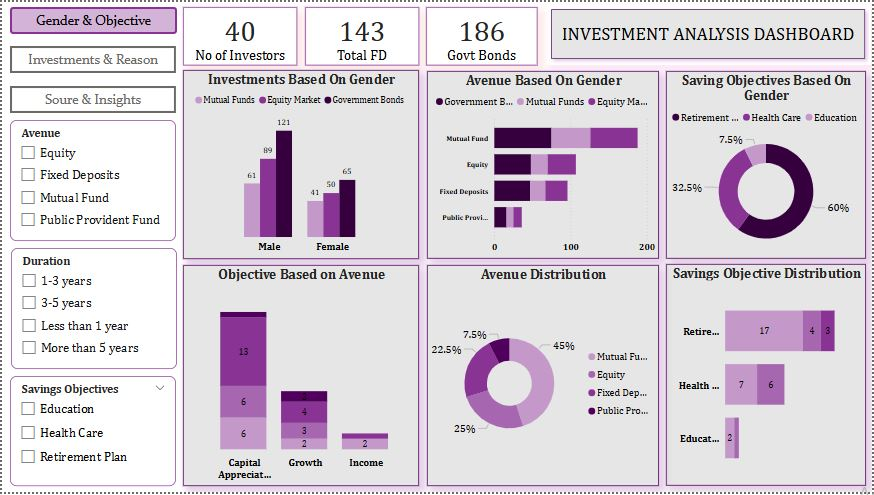

What the dashboard file says about the page in this screenshot:
{"tool":"powerbi","page":{"name":"Dashboard 1","canvas":[1280,720],"ordinal":6},"visuals":[{"type":"shape","box":[798.6,1.4,479.7,91.3],"z":0},{"type":"card","title":"Investors","fields":{"Values":["CountNonNull(Data_set 2.Invest_Monitor)"]},"box":[266.7,7.2,168.1,85.5],"z":1000},{"type":"card","title":"Investors","fields":{"Values":["Sum(Data_set 2.Fixed_Deposits)"]},"box":[444.9,7.2,168.1,85.5],"z":2000},{"type":"slicer","fields":{"Values":["Data_set 2.Avenue"]},"box":[11.8,173.5,244.1,177.9],"z":3000},{"type":"slicer","fields":{"Values":["Data_set 2.Duration"]},"box":[13.2,361.8,244.1,177.9],"z":4000},{"type":"card","title":"Investors","fields":{"Values":["Sum(Data_set 2.Government_Bonds)"]},"box":[623.2,7.2,163.8,85.5],"z":5000},{"type":"clusteredColumnChart","title":"Investments Based On Gender ","fields":{"Category":["Data_set 2.gender"],"Y":["Sum(Data_set 2.Mutual_Funds)","Sum(Data_set 2.Equity_Market)","Sum(Data_set 2.Government_Bonds)"]},"box":[266.2,100,347.1,277.9],"z":6000},{"type":"columnChart","title":"Objective Based on Avenue","fields":{"Y":["CountNonNull(Data_set 2.Avenue)"],"Category":["Data_set 2.Objective"],"Series":["Data_set 2.Avenue"]},"box":[266.2,386.8,347.1,325],"z":7000},{"type":"slicer","fields":{"Values":["Data_set 2.What are your savings objectives?"]},"box":[11.8,550,244.1,161.8],"z":8000},{"type":"barChart","title":"Avenue Based On Gender ","fields":{"Category":["Data_set 2.Avenue"],"Y":["Sum(Data_set 2.Government_Bonds)","Sum(Data_set 2.Mutual_Funds)","Sum(Data_set 2.Equity_Market)"]},"box":[625,101.5,341.2,276.5],"z":9000},{"type":"donutChart","title":"Saving Objectives Based On Gender ","fields":{"Category":["Data_set 2.What are your savings objectives?"],"Y":["CountNonNull(Data_set 2.What are your savings objectives?)"]},"box":[976.5,101.5,294.1,276.5],"z":10000},{"type":"barChart","title":"Savings Objective Distribution","fields":{"Category":["Data_set 2.What are your savings objectives?"],"Y":["CountNonNull(Data_set 2.Objective)"],"Series":["Data_set 2.Objective"]},"box":[976.5,385.3,294.1,326.5],"z":11000},{"type":"donutChart","title":"Avenue Distribution","fields":{"Y":["CountNonNull(Data_set 2.Avenue)"],"Category":["Data_set 2.Avenue"]},"box":[625,386.8,341.2,325],"z":12000},{"type":"actionButton","box":[11.8,7.4,245.6,39.7],"z":13000},{"type":"actionButton","box":[11.8,64.7,244.1,39.7],"z":14000},{"type":"actionButton","box":[11.8,123.5,244.1,39.7],"z":15000}]}

Visuals, with their boxes in screenshot pixels (x1, y1, x2, y2), scaled from the page's 1280x720 canvas onto the 874x495 screenshot:
shape: [545,1,873,64]
"Investors" card: [182,5,297,64]
"Investors" card: [304,5,419,64]
slicer - Data_set 2.Avenue: [8,119,175,242]
slicer - Data_set 2.Duration: [9,249,176,371]
"Investors" card: [426,5,537,64]
"Investments Based On Gender " clusteredColumnChart: [182,69,419,260]
"Objective Based on Avenue" columnChart: [182,266,419,489]
slicer - Data_set 2.What are your savings objectives?: [8,378,175,489]
"Avenue Based On Gender " barChart: [427,70,660,260]
"Saving Objectives Based On Gender " donutChart: [667,70,868,260]
"Savings Objective Distribution" barChart: [667,265,868,489]
"Avenue Distribution" donutChart: [427,266,660,489]
actionButton: [8,5,176,32]
actionButton: [8,44,175,72]
actionButton: [8,85,175,112]
